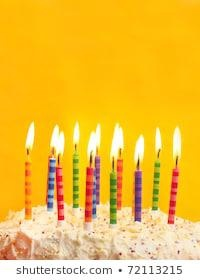fire: (49, 124, 65, 161), (109, 121, 124, 160), (86, 121, 100, 161), (133, 133, 145, 165), (172, 124, 182, 160), (24, 121, 36, 151), (154, 125, 162, 155), (72, 121, 80, 149)
